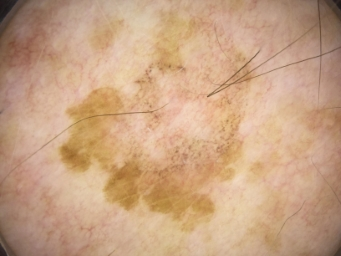nevus: (59, 18, 254, 227)
